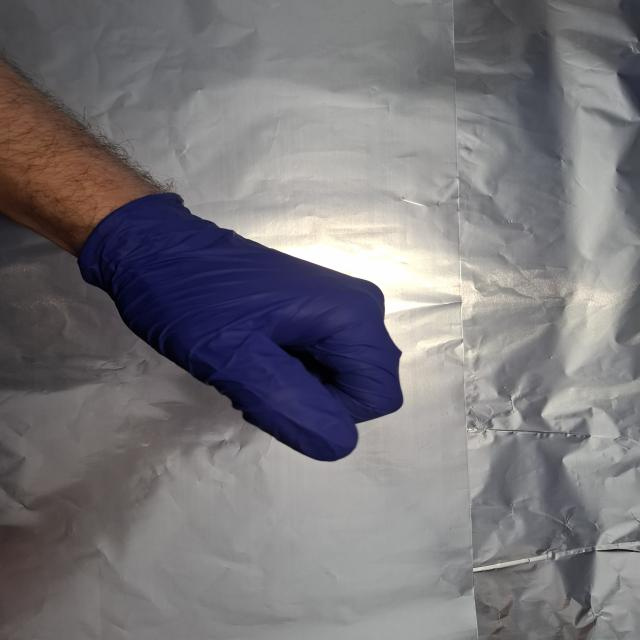glove_on: (78, 194, 410, 464)
